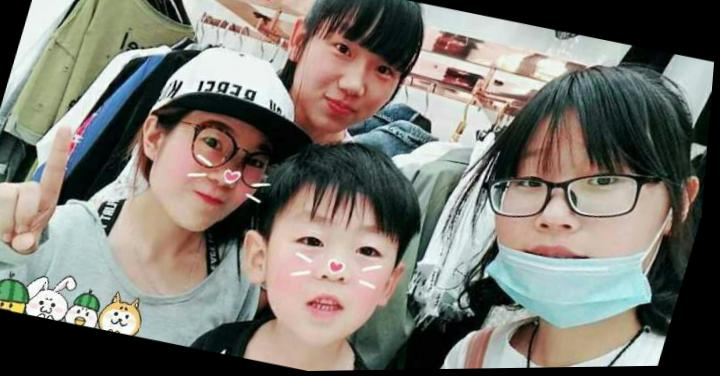NONE: (251, 196, 411, 360), (149, 101, 288, 249), (286, 19, 415, 148)
WRONG: (468, 113, 695, 345)
